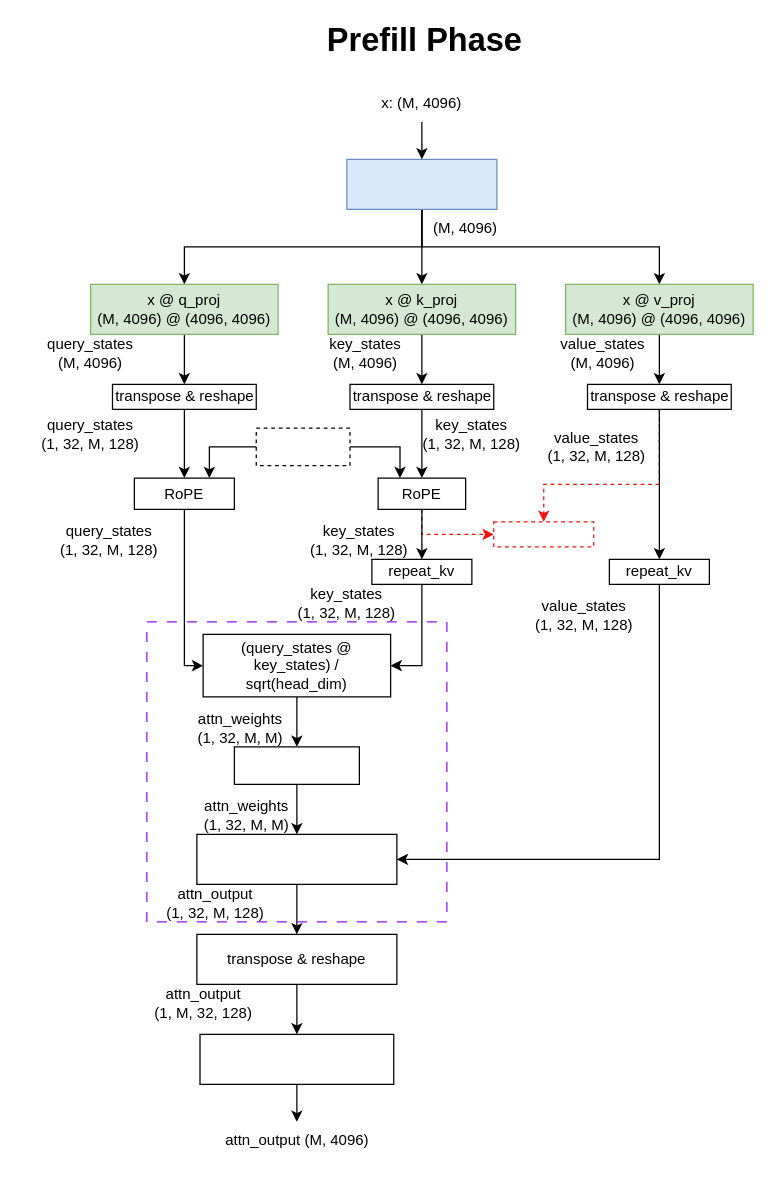
The diagram is 775 pixels wide and 1181 high, and some of its shapes have lost their labels. The centre of each missing label's shape, as x and y in pixels:
"attn_output @ o_proj (M, 4096) @ (4096, 4096)" belongs at pixel 296 1058.
"attn_weights @ value_states" belongs at pixel 296 858.
"cos:(M, 128) sin:(M, 128)" belongs at pixel 302 446.
"input_layernorm" belongs at pixel 421 183.
"kv cache" belongs at pixel 543 534.
"softmax" belongs at pixel 296 765.
